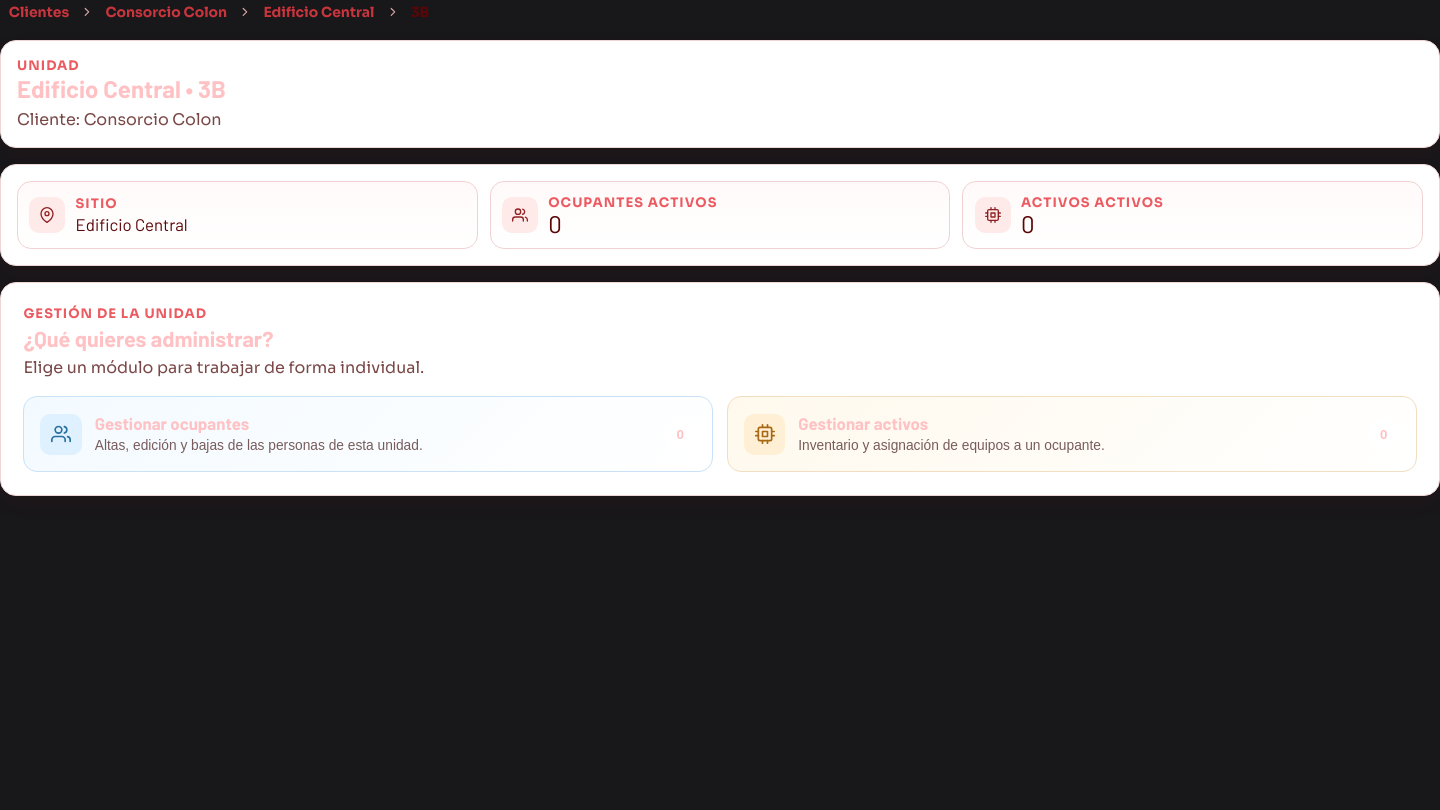
Test: UnidadDetailPage › muestra el error de la API sin cerrar el modal si falla el guardado del ocupante
Expected: the heading "¿Qué quieres administrar?" is shown, [23,325,274,351]
Click the button "Gestionar ocupantes" at (61, 434), box [23,396,713,472]
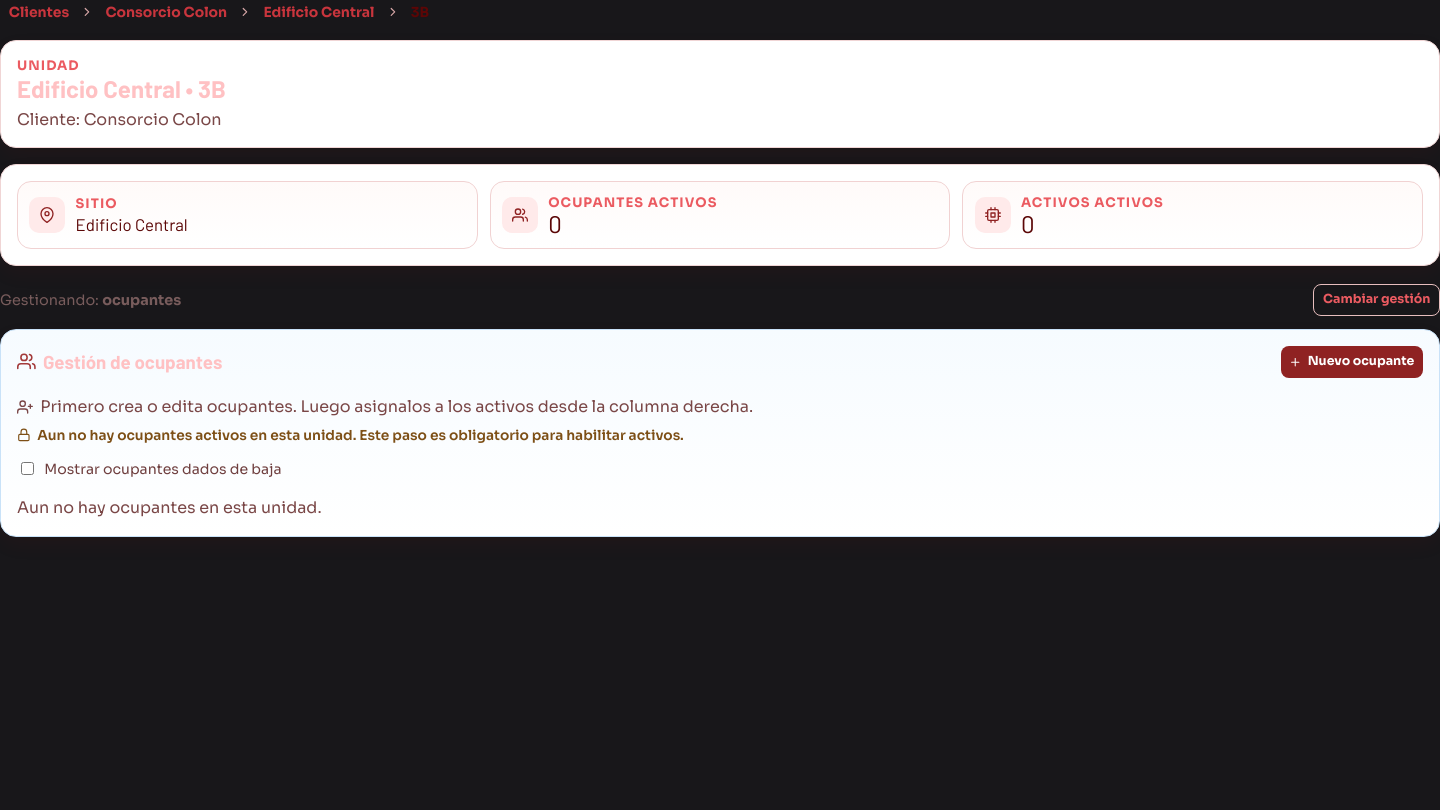
Click the button "Nuevo ocupante" at (1352, 362), box [1280,346,1423,378]
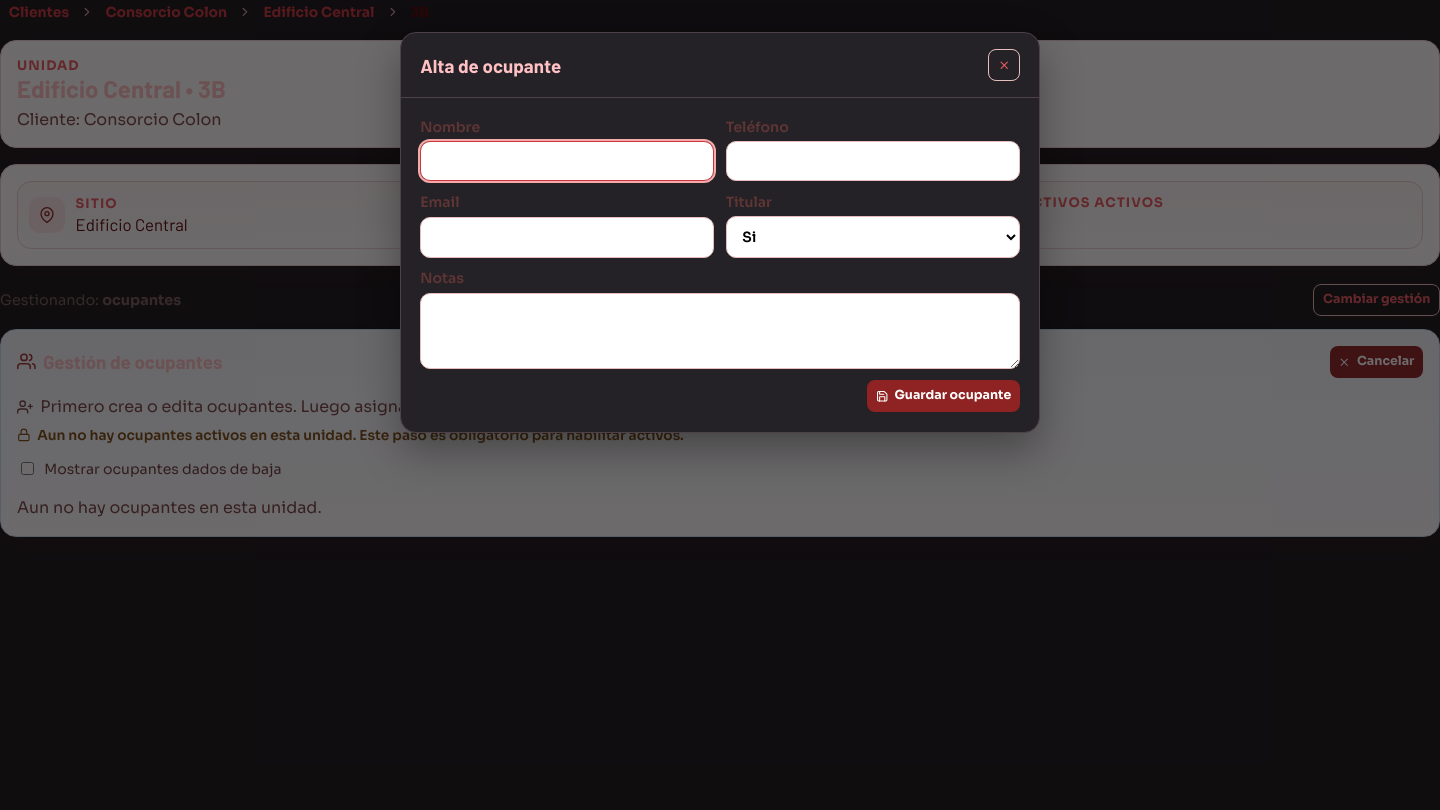
Type "Alguien" into the field labelled "Nombre" at (567, 161), box [420,141,714,181]
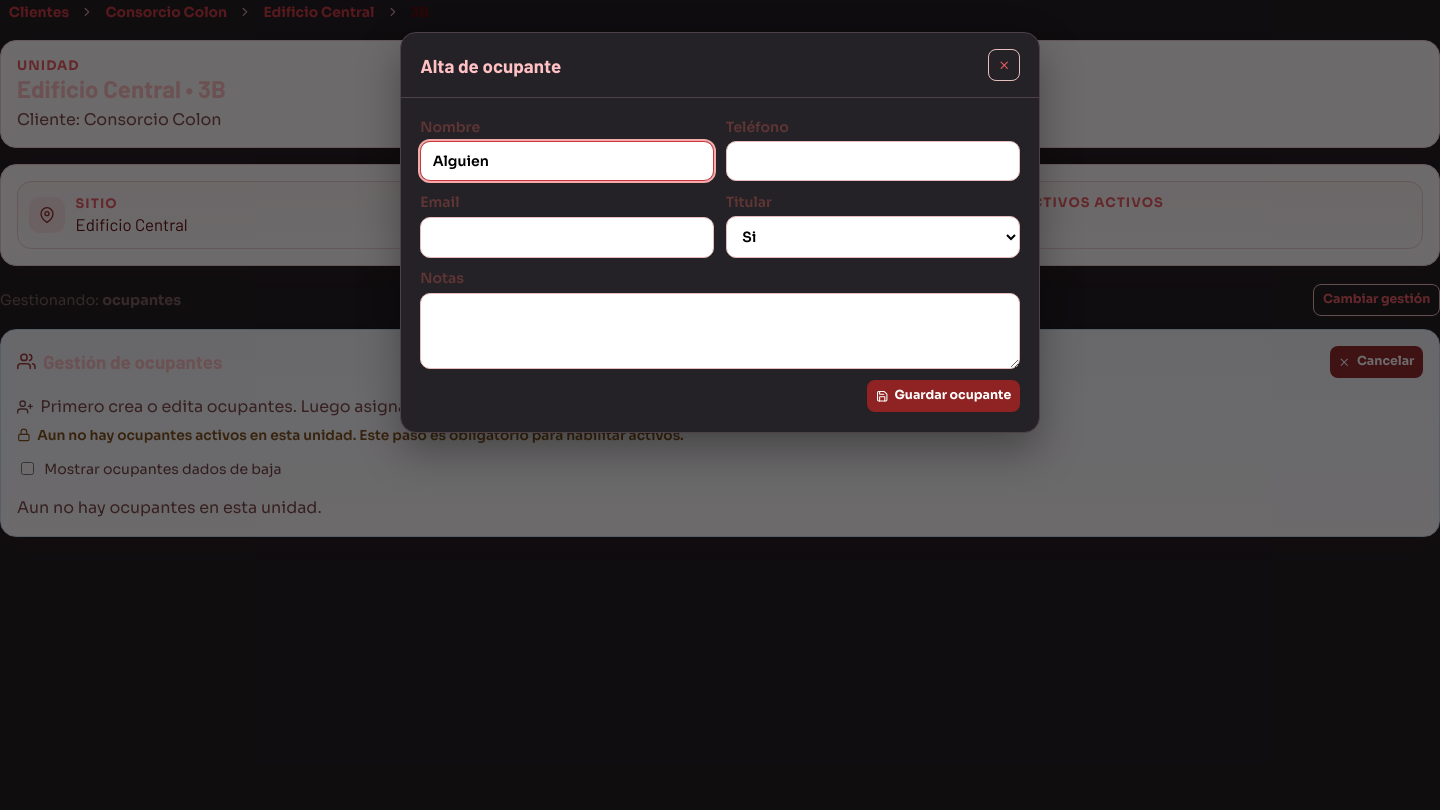
Click the button "Guardar ocupante" at (944, 396), box [867,380,1020,412]
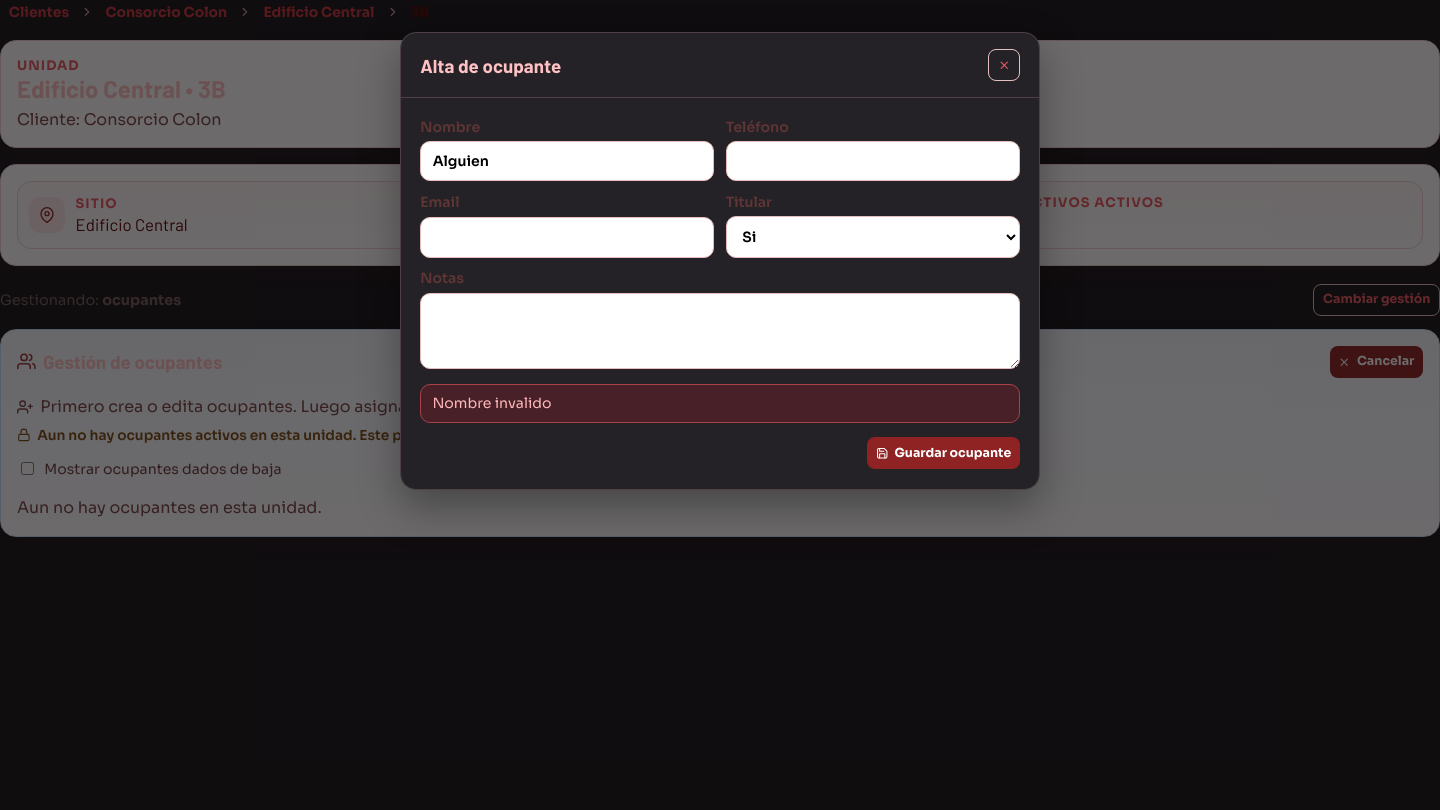
Expected: the text "Nombre invalido" is shown, [420,384,1020,423]
